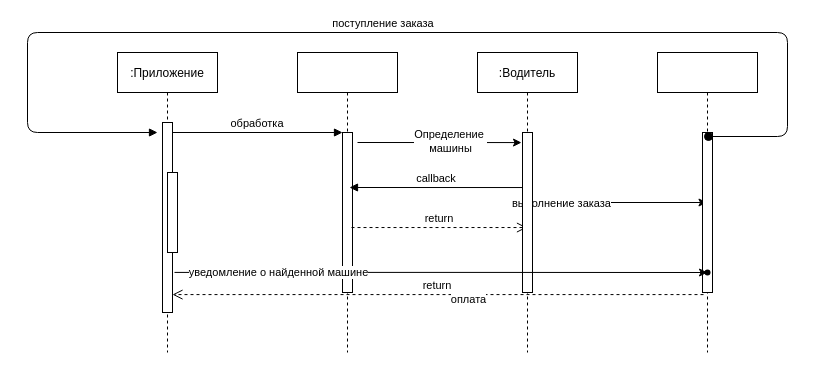
This 816x370 diagram has some shape labels left out. Here are the shapes that lost their labels. From the top down, the box of each, then its label:
(296, 52, 398, 352): :Оператор
(656, 52, 758, 352): :Клиент
